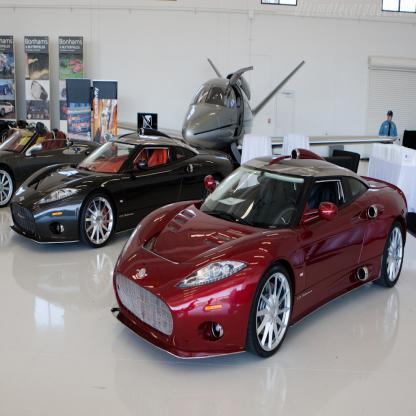Vehicle: (109, 145, 410, 368)
